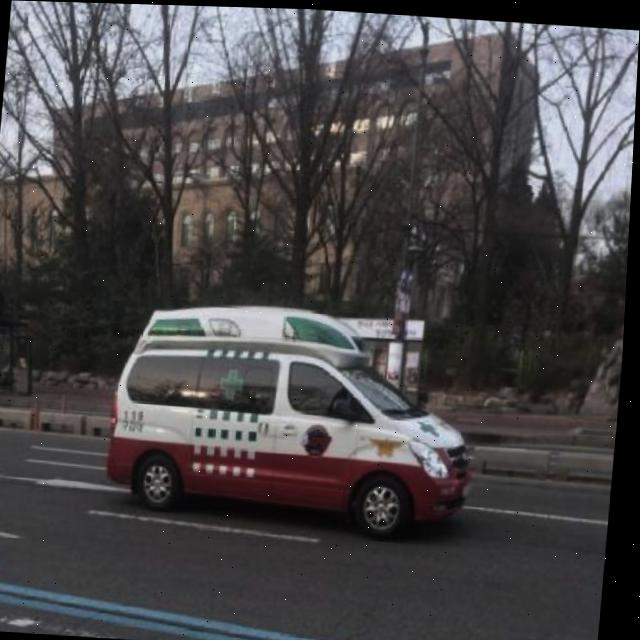emergency: (104, 293, 493, 541)
